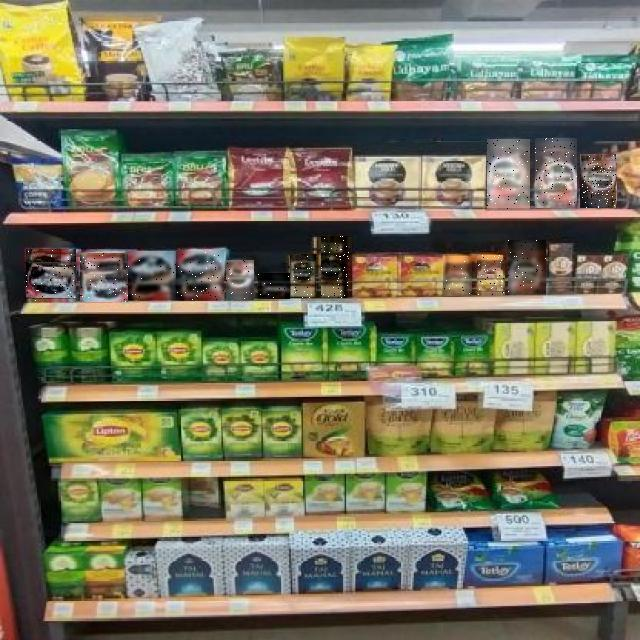Coffee: (487, 140, 530, 210), (535, 138, 577, 208), (27, 250, 77, 302), (128, 251, 177, 300), (176, 251, 224, 300), (80, 253, 128, 302), (508, 240, 546, 294), (581, 154, 617, 208), (322, 237, 350, 299), (443, 256, 472, 296), (290, 254, 316, 298), (477, 256, 505, 296), (226, 260, 254, 300), (258, 273, 290, 299)
